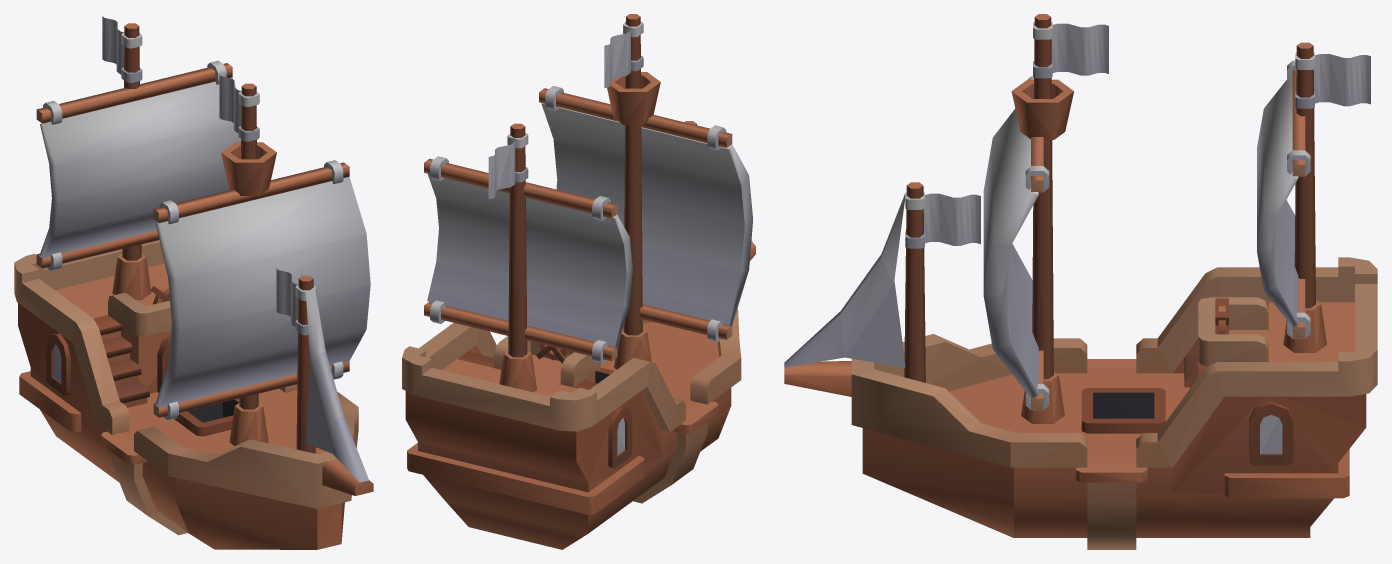
The model's file is pirate_ship_medium.glb.
3 renders of one model, left to right at view 1: azimuth 30°, elevation 25°; view 2: azimuth 150°, elevation 25°; view 3: azimuth 270°, elevation 25°, orthographic. The views are drawn at different scales.
Visible parts, largest first — view 1: pirate_ship_medium; view 2: pirate_ship_medium; view 3: pirate_ship_medium.
Boxes of the visible parts, x1,y1,x2,y2 form: pirate_ship_medium: (14, 16, 373, 549); pirate_ship_medium: (402, 14, 755, 549); pirate_ship_medium: (784, 14, 1377, 549).
Size of the model in its own units: 4.8 by 9.96 by 10.6.
